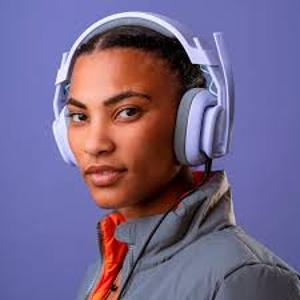Headphones: (51, 11, 235, 165)
